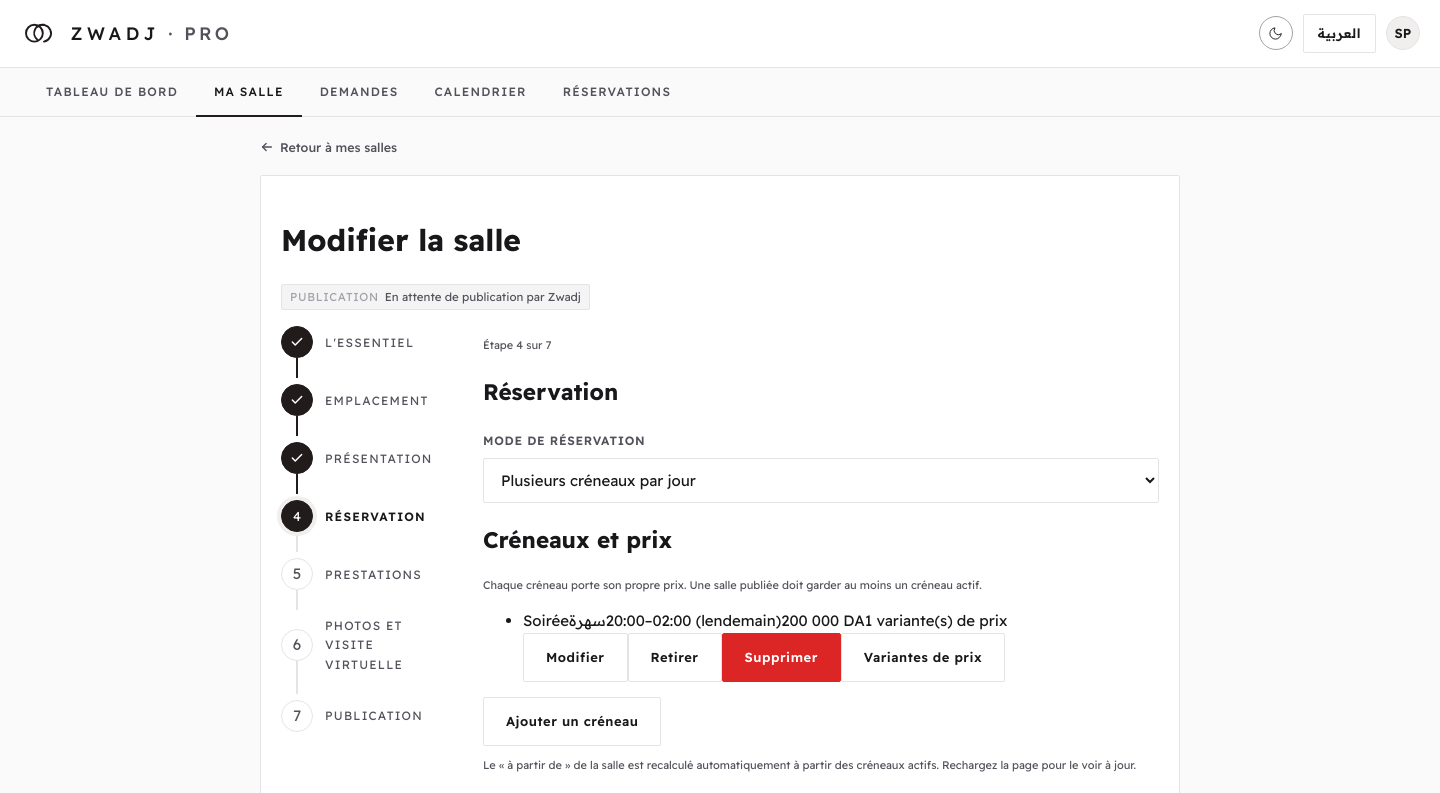
Test: Variantes de prix — lecture › l'écran annonce qu'UNE SEULE variante s'applique — sinon le pro croit à un cumul
Expected: the heading "Réservation" is shown, [483,376,618,406]
Click the button "Variantes de prix".
click(923, 658)  # box [841,633,1005,682]
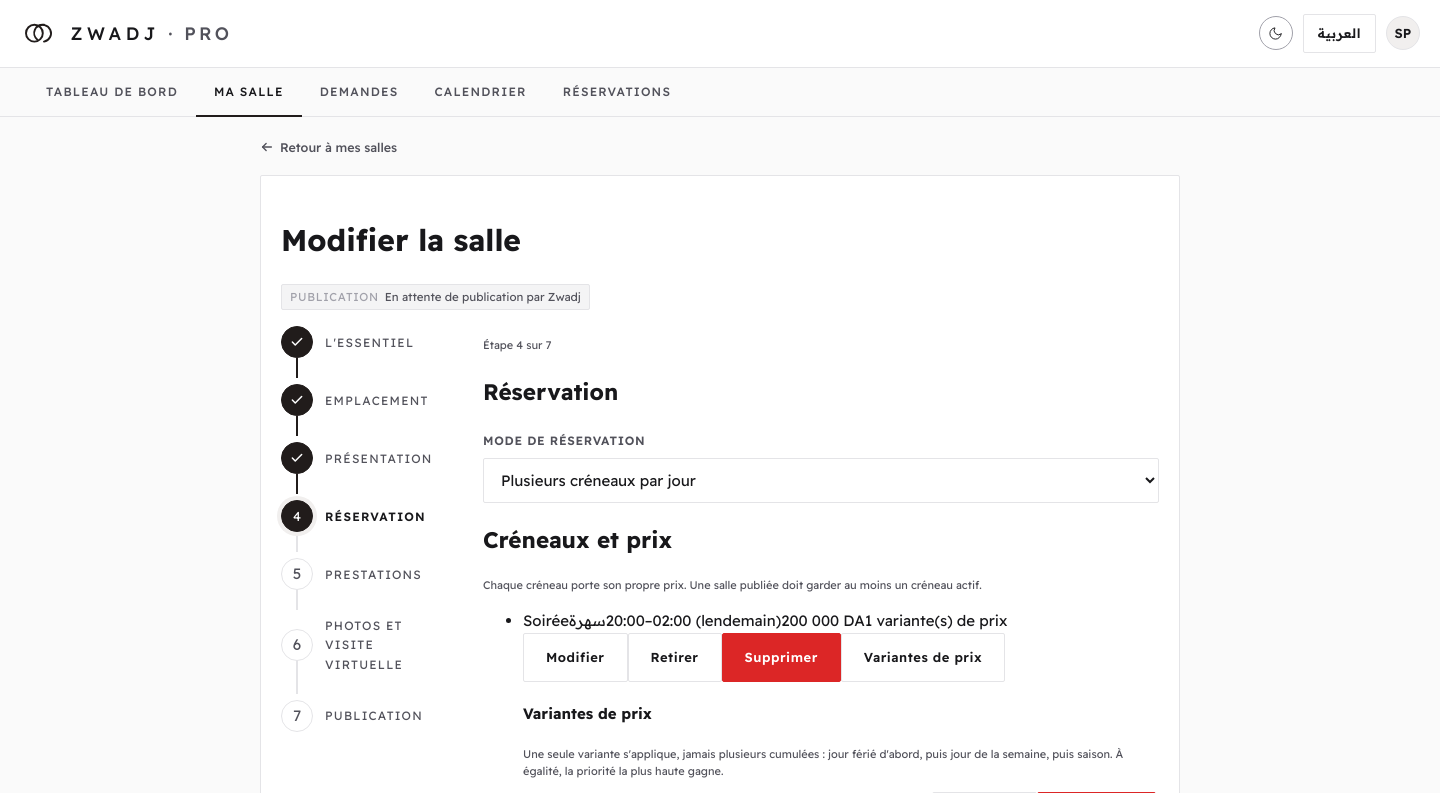
Now the text "Une seule variante s'applique" is shown, box [523,747,1123,778]
